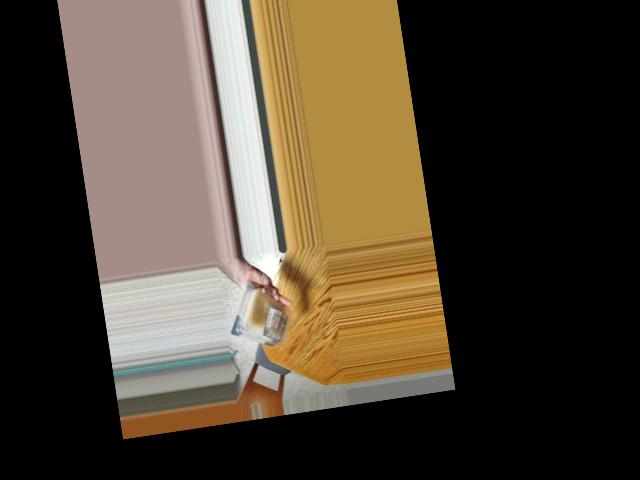cheese: (232, 280, 295, 355)
